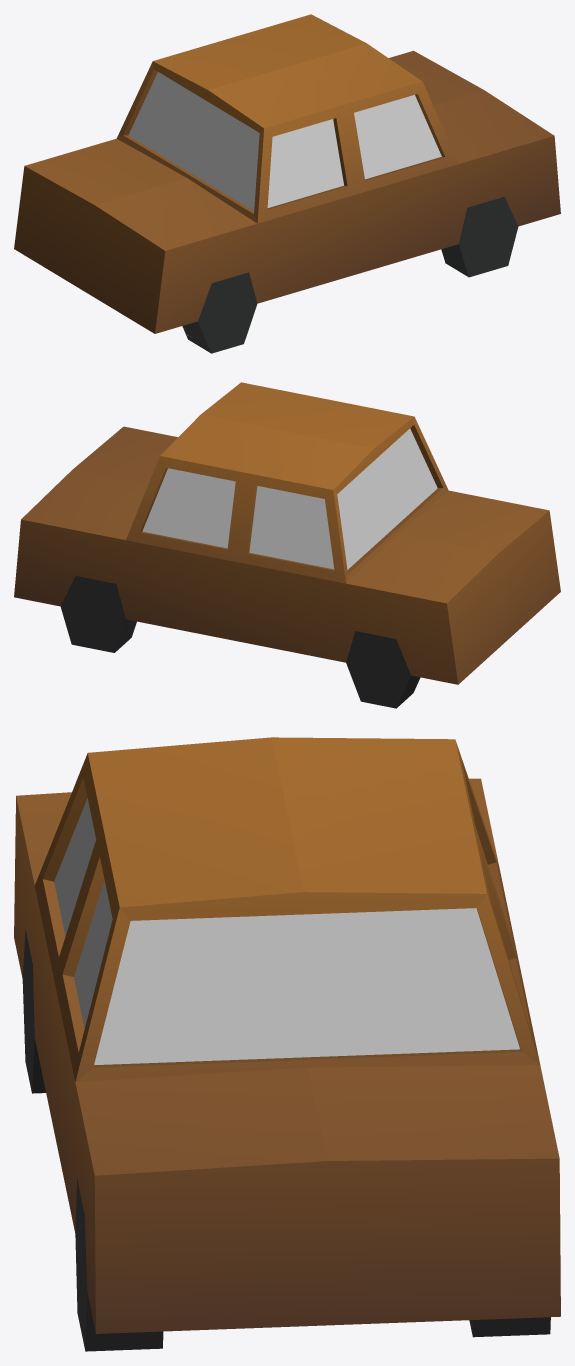
The model's file is Car.fbx.
The picture shows the model from 3 angles, top to bottom: view 1: azimuth 30°, elevation 25°; view 2: azimuth 150°, elevation 25°; view 3: azimuth 270°, elevation 25°; orthographic projection. The views are drawn at different scales.
Visible parts, largest first — view 1: Cube.557; view 2: Cube.557; view 3: Cube.557.
Part boxes in pixels (bbox=[...]): Cube.557: bbox=[14, 14, 560, 353]; Cube.557: bbox=[14, 382, 560, 708]; Cube.557: bbox=[14, 737, 560, 1351].
Bounding box in the file's own units: 122 × 52.64 × 68.37.
